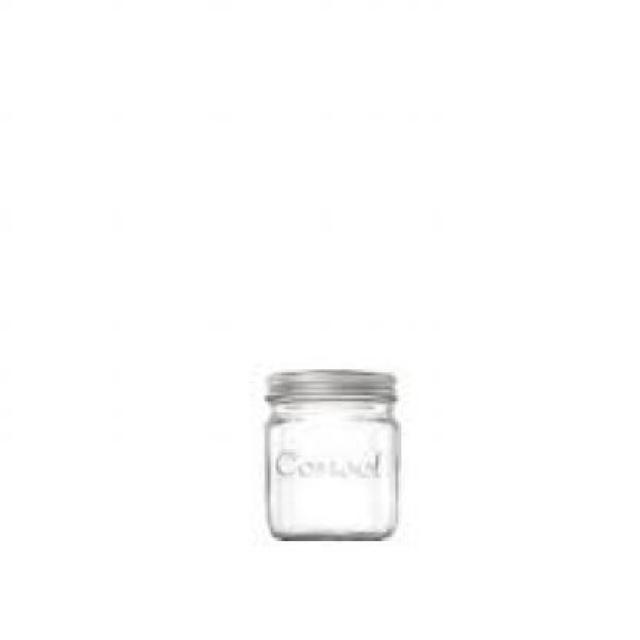kaca: (262, 368, 398, 535)
